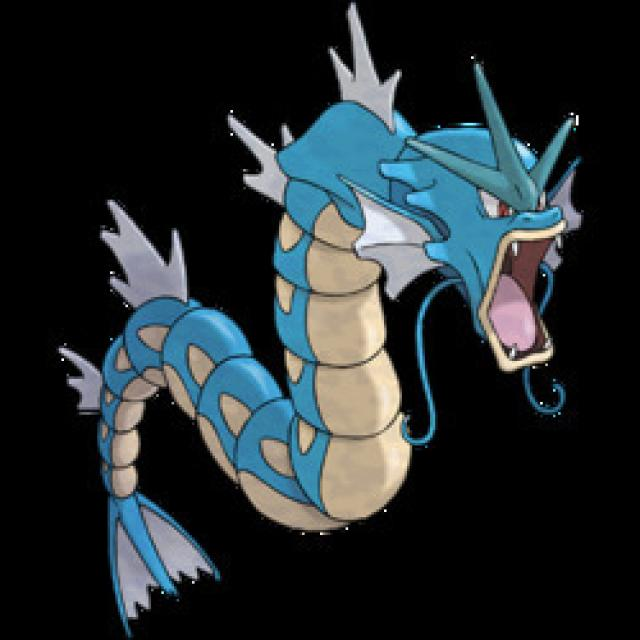Gyarados: (84, 84, 586, 537)
